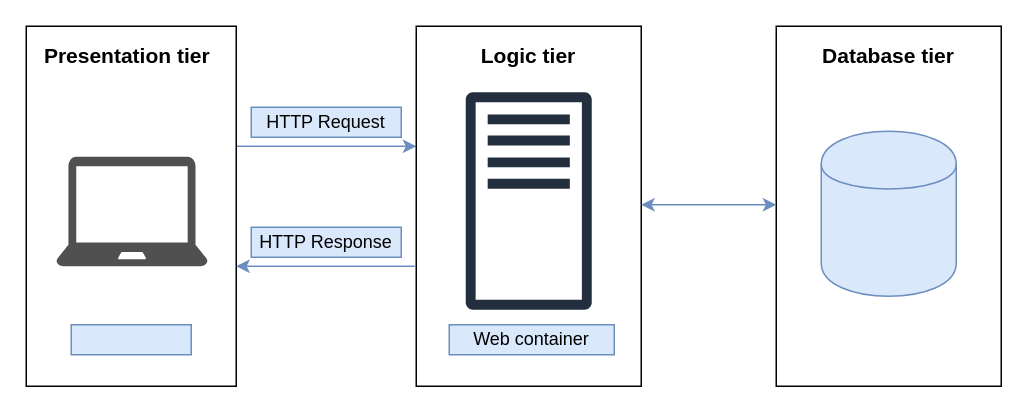
Some shapes in this 1028 by 413 pixel diagram are drawn without their labels. The shapes that lost their labels are listed below. From the top down, each one's centre as x and y in pixels, then its label:
the point at 888,213: MYSQL Server
the point at 130,339: POSTMAN
